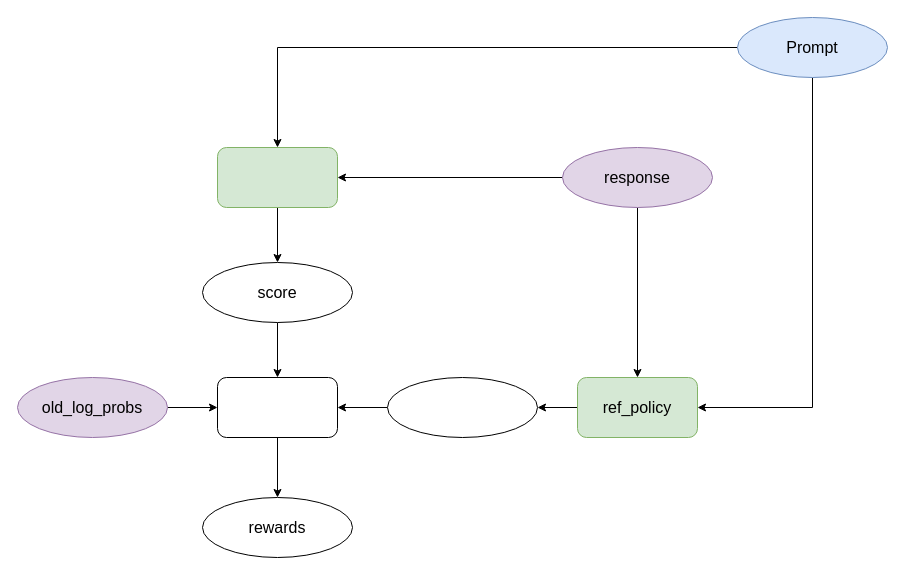
The diagram is 905 pixels wide and 575 high, and some of its shapes have lost their labels. Here are the shapes that lost their labels. From the top down, the box of each, then its label:
(216, 146, 338, 208): reward model
(216, 376, 338, 438): reward function
(386, 376, 538, 438): ref_log_probs
